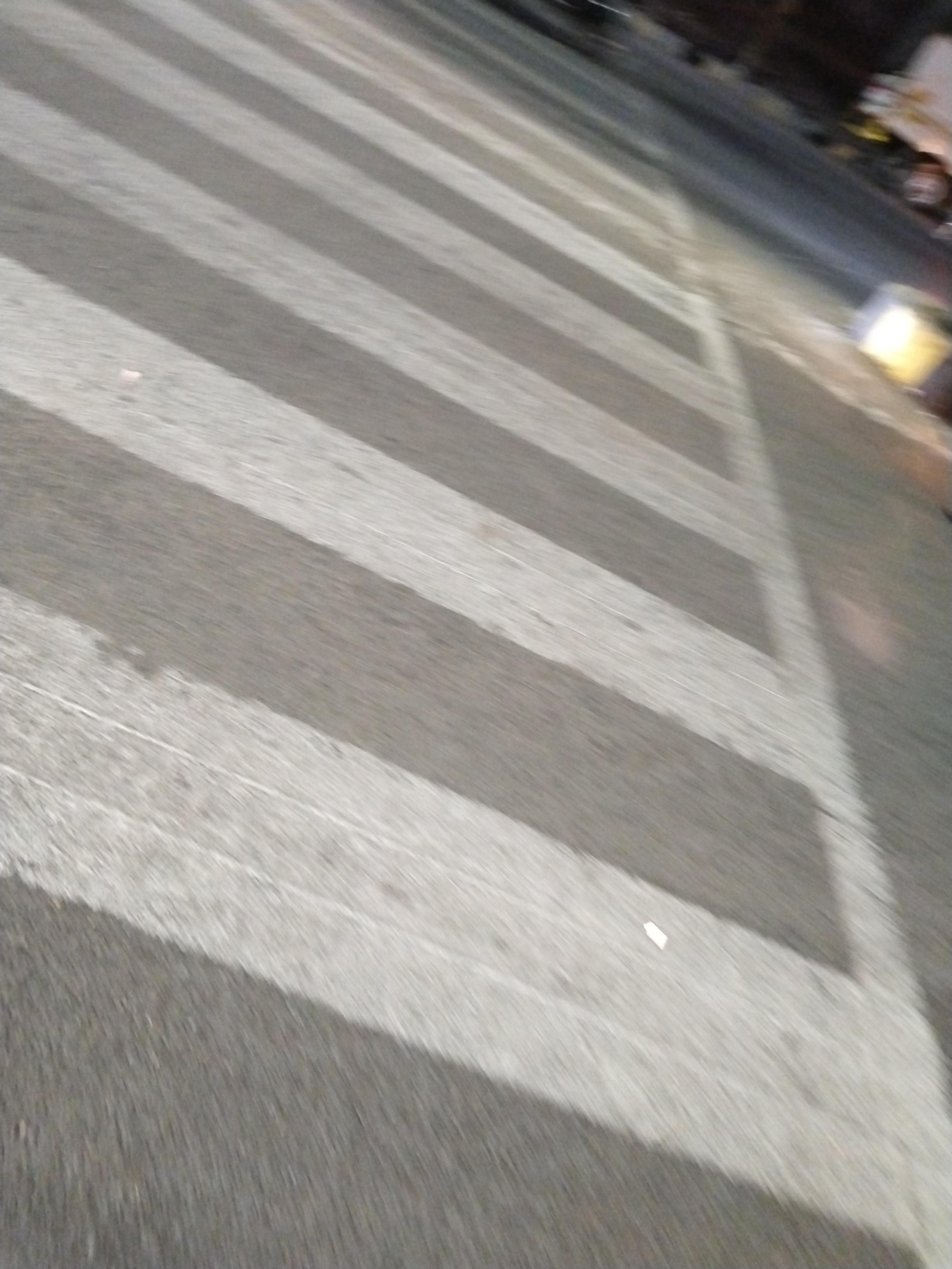crosswalk: (0, 0, 952, 1243)
